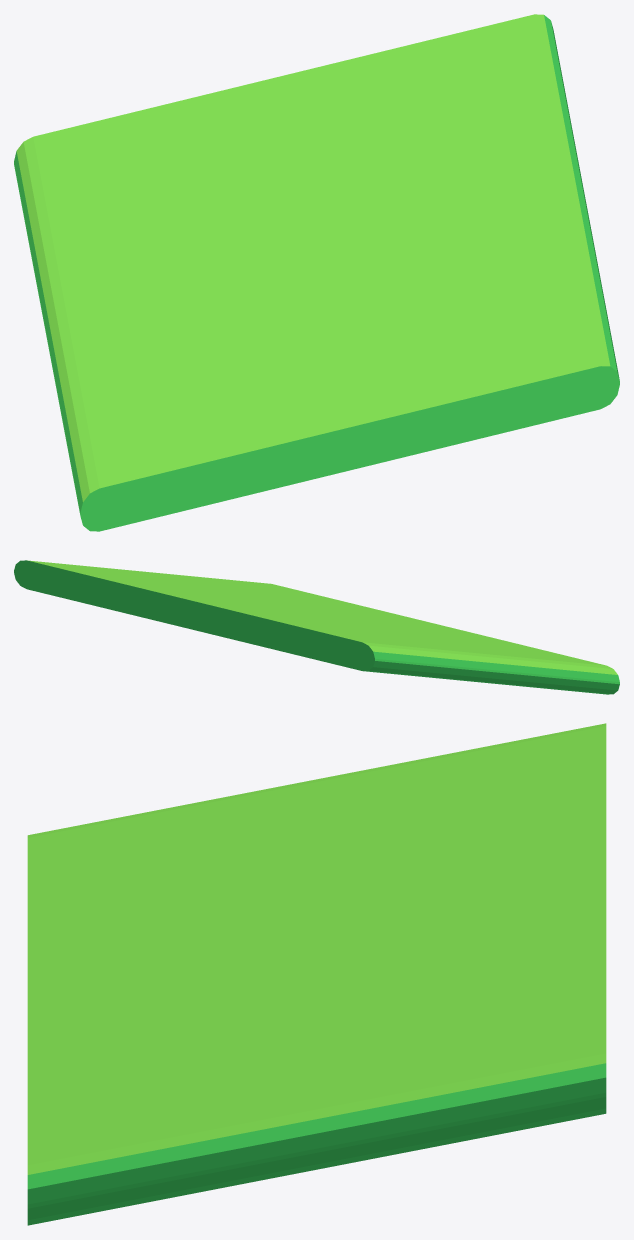
File: Spring_Pad.gltf
3 renders of one model, top to bottom at view 1: azimuth 30°, elevation 25°; view 2: azimuth 150°, elevation 25°; view 3: azimuth 270°, elevation 25°, orthographic. The views are drawn at different scales.
Parts seen in each view (by area): view 1: Spring_Pad_baked; view 2: Spring_Pad_baked; view 3: Spring_Pad_baked.
Part boxes in pixels (<box>): Spring_Pad_baked: <box>14,14,619,531</box>; Spring_Pad_baked: <box>14,560,619,694</box>; Spring_Pad_baked: <box>27,723,606,1225</box>.
Size of the model in its own units: 0.92 by 0.255 by 0.5.
